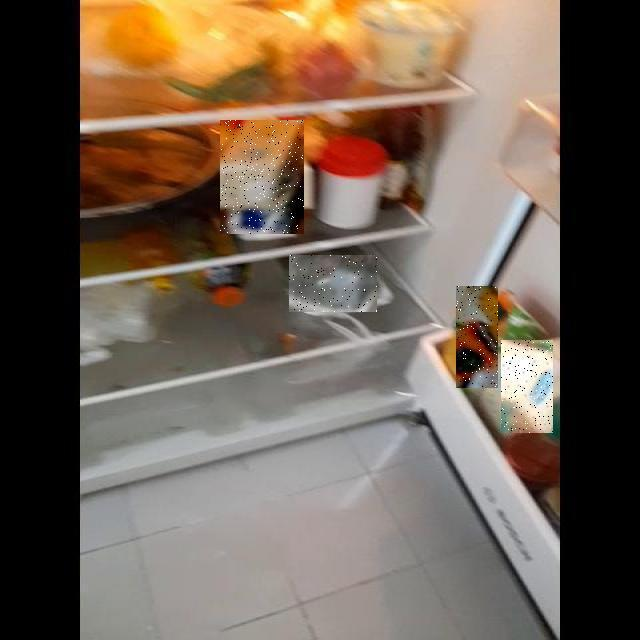broccoli: (100, 156, 478, 468)
milk: (225, 216, 640, 640), (68, 117, 372, 351)
